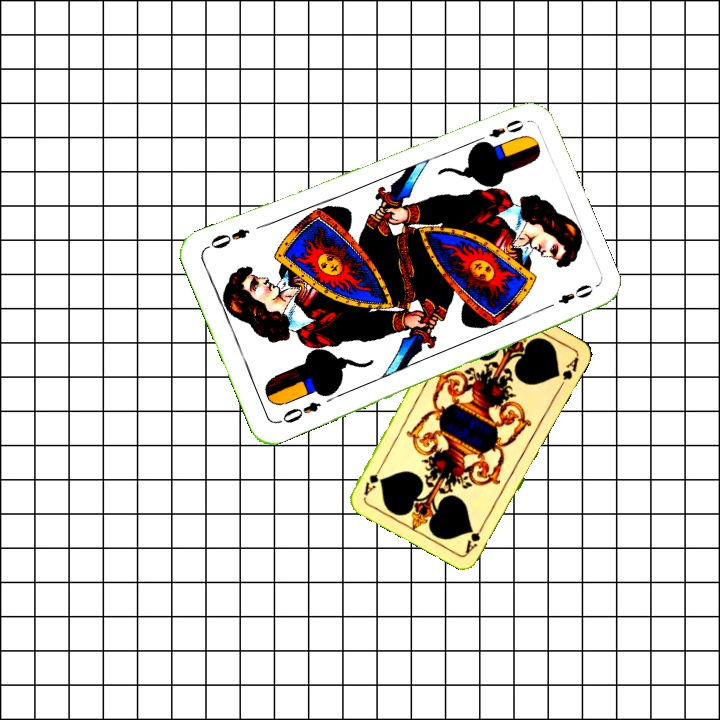EO: (471, 115, 526, 147), (274, 397, 323, 427)
GA: (461, 518, 487, 556)
